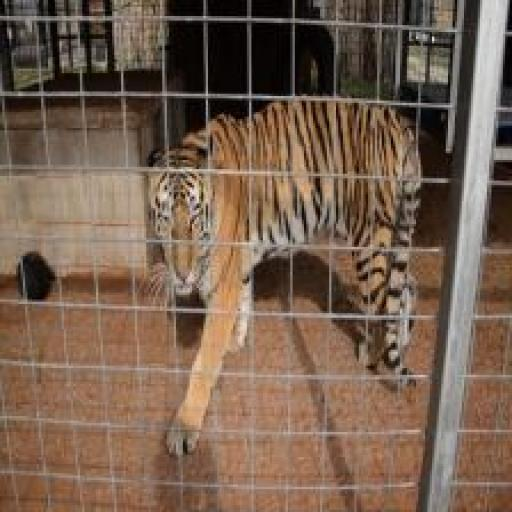Tiger: (116, 89, 431, 508)
